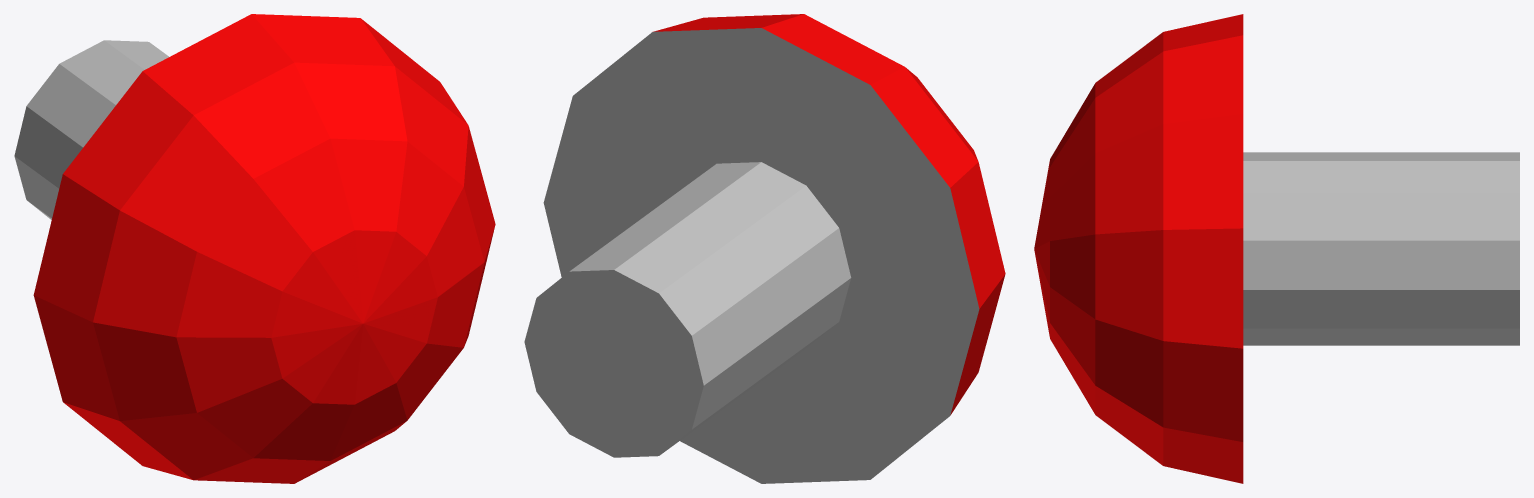
The model's file is button1.obj.
3 views of the same model, side by side, from view 1: azimuth 30°, elevation 25°; view 2: azimuth 150°, elevation 25°; view 3: azimuth 270°, elevation 25° (orthographic). The views are drawn at different scales.
Parts seen in each view (by area): view 1: button1; view 2: button1; view 3: button1.
Boxes of the visible parts, box(x1,y1,x2,y2) form: button1: box(14, 14, 495, 483); button1: box(524, 14, 1005, 483); button1: box(1034, 14, 1519, 483).
Size of the model in its own units: 0.17 by 0.17 by 0.175.
